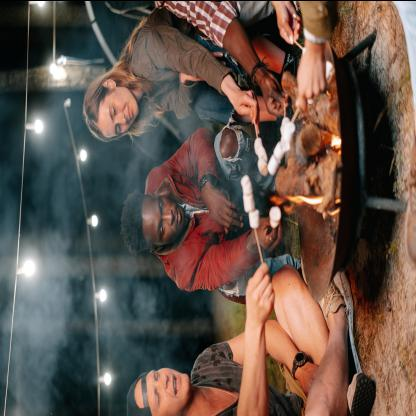Eye: (154, 388, 162, 404), (158, 221, 166, 236), (115, 122, 122, 134), (112, 104, 118, 116), (154, 368, 160, 380), (159, 198, 165, 210)
Mouth: (170, 372, 182, 395), (174, 207, 182, 226), (126, 102, 134, 118)
Nose: (163, 206, 174, 226), (158, 372, 168, 390), (116, 110, 128, 124)
